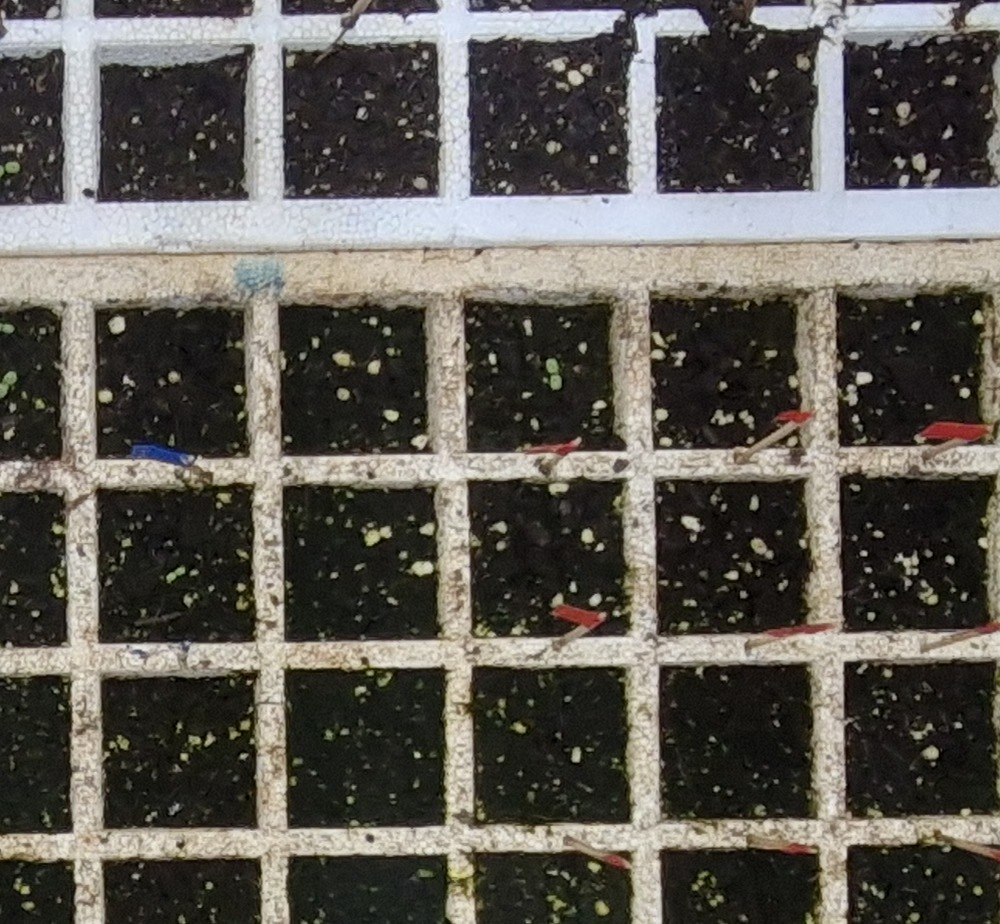Folha: (550, 376, 563, 390), (546, 359, 559, 372), (4, 372, 16, 384), (0, 384, 7, 397)
Germinacao: (546, 359, 562, 390), (0, 371, 17, 397), (165, 566, 186, 581)
